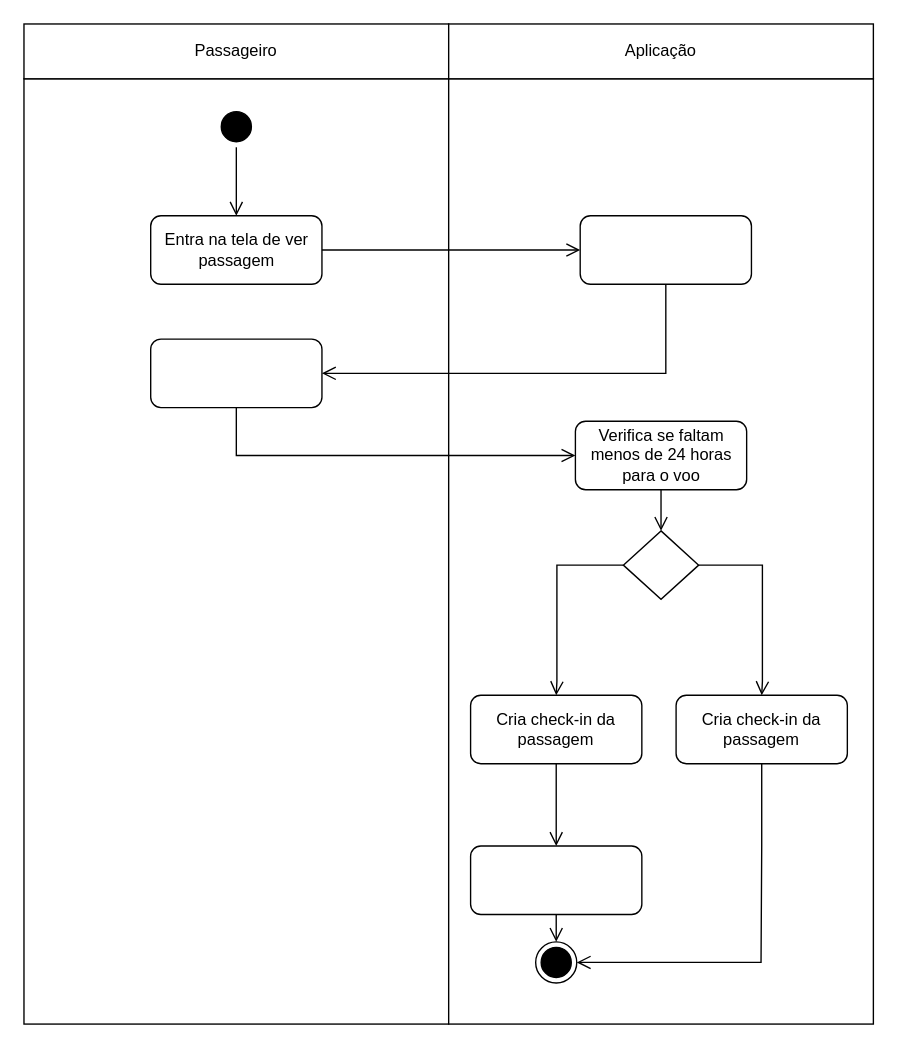
This 897x1048 diagram has some shape labels left out. The box of each missing label's shape, as (x1, y1, x2, y2) in pixels:
Escolhe realizar check-in: (149, 338, 322, 408)
Informa que o check-in foi realizado com sucesso: (469, 845, 642, 914)
Mostra dados da passagem: (579, 214, 751, 284)
